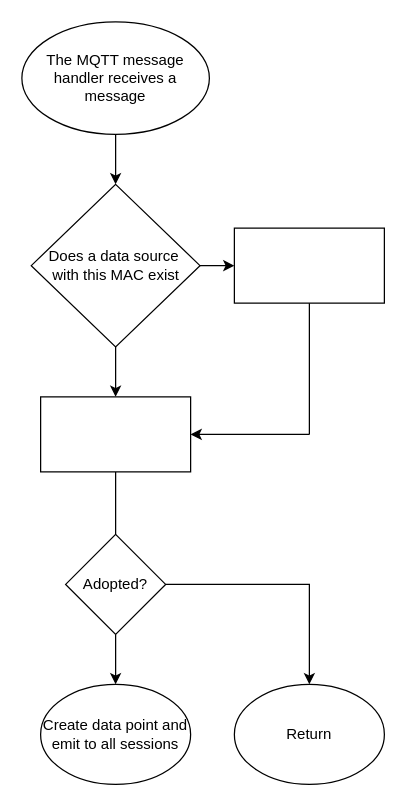
Some shapes in this 406 by 806 pixel diagram are drawn without their labels. The shapes that lost their labels are listed below. From the top down, each one's centre as x and y in pixels, then its label:
At (308,265): "Create it".
At (115,434): "Get the instance".
